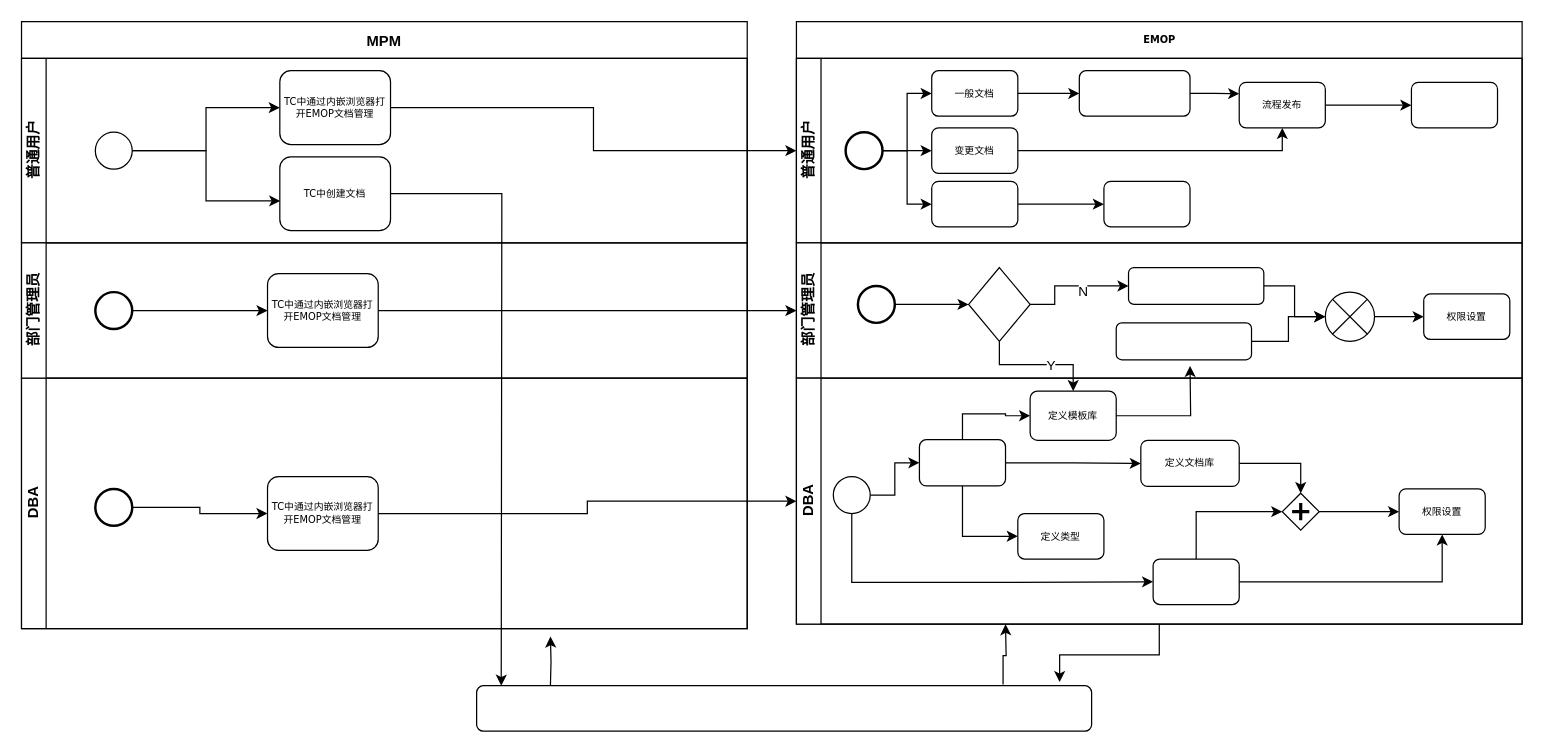
The diagram is 1544 pixels wide and 753 high, and some of its shapes have lost their labels. The centre of each missing label's shape, as x and y in pixels:
修订升版: point 1454,104
双向同步: point 783,707
在线编辑、预览: point 1134,92
存在 模板: point 998,303
定义属性: point 962,462
定义角色: point 1195,581
手动创建结构: point 1195,285
文档下载: point 1146,203
文档查询: point 974,203
模板库导入结构: point 1183,341
